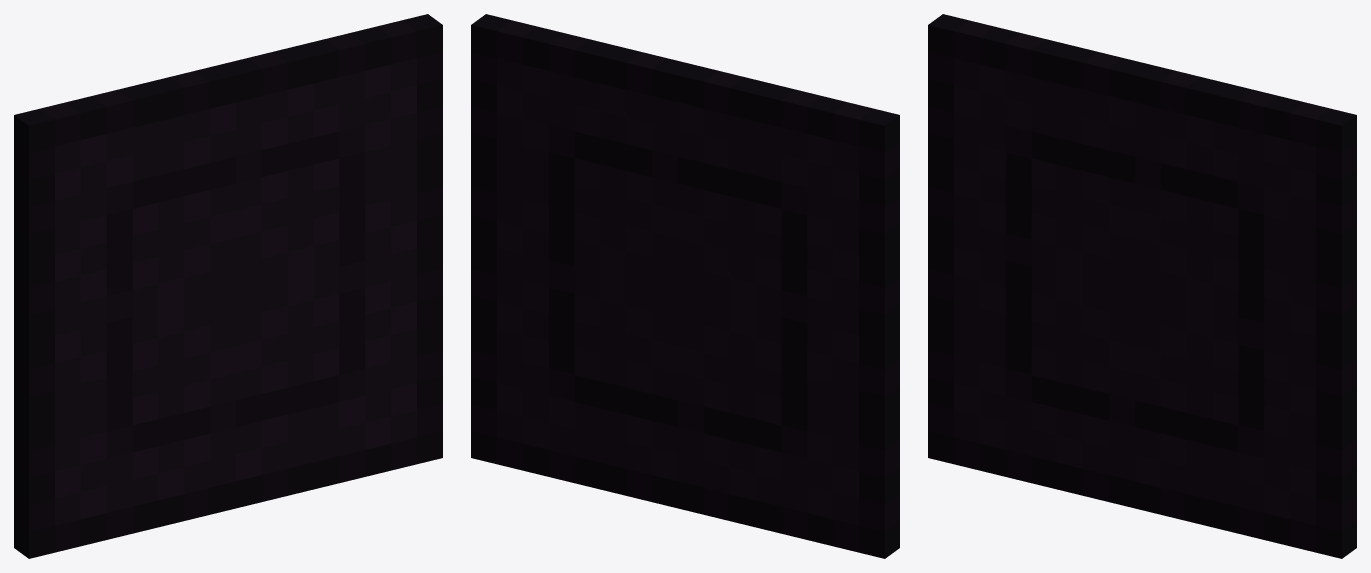
Rendered from carpet-0.obj.
3 views of the same model, side by side, from view 1: azimuth 30°, elevation 25°; view 2: azimuth 150°, elevation 25°; view 3: azimuth 330°, elevation 25° (orthographic).
Bounding box in the file's own units: 1.6 × 1.6 × 0.1.
1 material, 1 textured.
